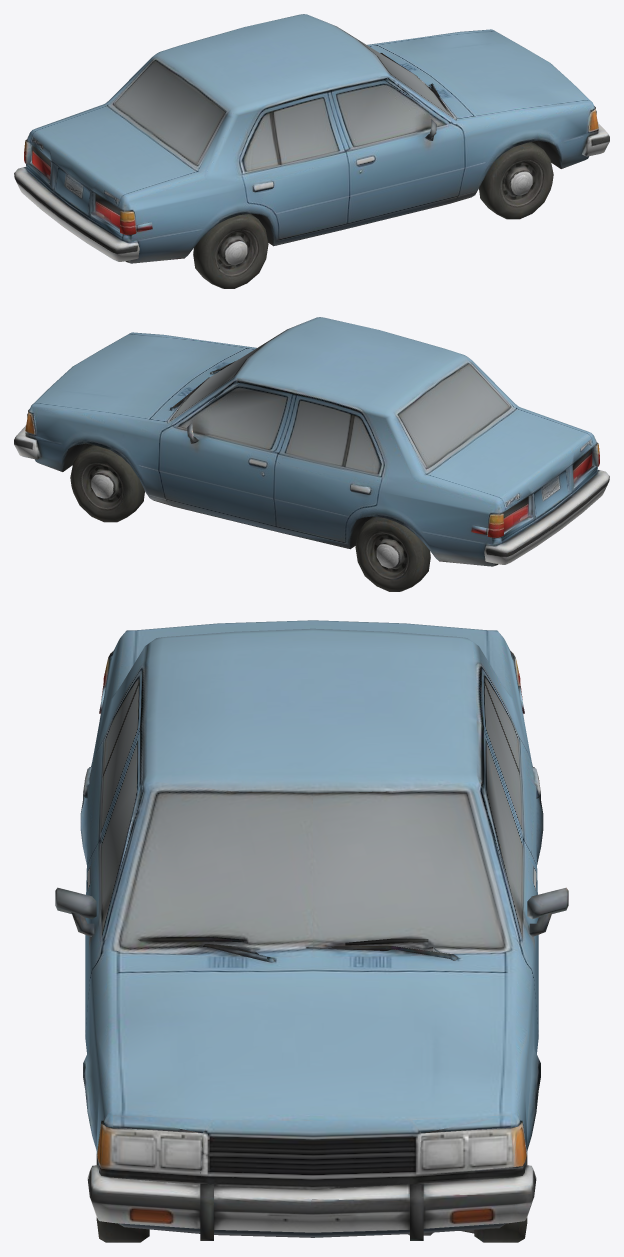
The model's file is sedan.glb.
The picture shows the model from 3 angles, top to bottom: view 1: azimuth 30°, elevation 25°; view 2: azimuth 150°, elevation 25°; view 3: azimuth 270°, elevation 25°; orthographic projection. The views are drawn at different scales.
Visible parts, largest first — view 1: tripo_node_64eafbcb-6cd0-4463-b262-7d4791f390c9; view 2: tripo_node_64eafbcb-6cd0-4463-b262-7d4791f390c9; view 3: tripo_node_64eafbcb-6cd0-4463-b262-7d4791f390c9.
Boxes of the visible parts, x1,y1,x2,y2 form: tripo_node_64eafbcb-6cd0-4463-b262-7d4791f390c9: [14, 14, 609, 288]; tripo_node_64eafbcb-6cd0-4463-b262-7d4791f390c9: [14, 317, 609, 591]; tripo_node_64eafbcb-6cd0-4463-b262-7d4791f390c9: [55, 620, 568, 1242].
Bounding box in the file's own units: 0.998 × 0.3262 × 0.4355.
1 material, 1 textured.
